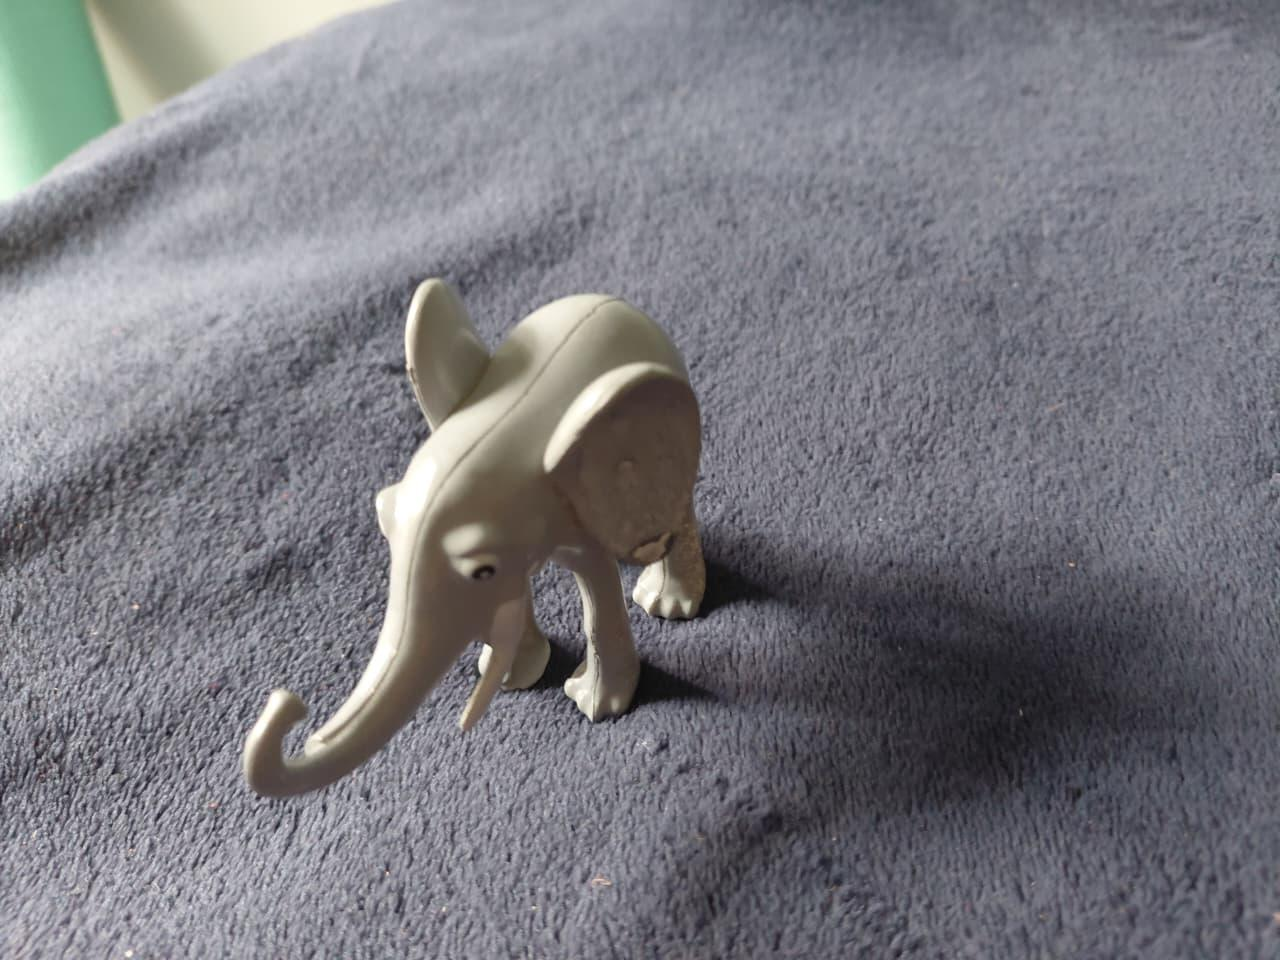elephant: (227, 260, 724, 807)
